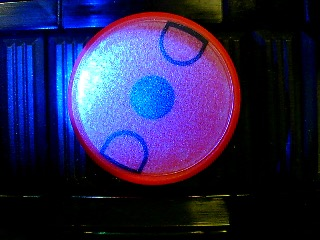BOHOMIPO2: (67, 11, 241, 186)
